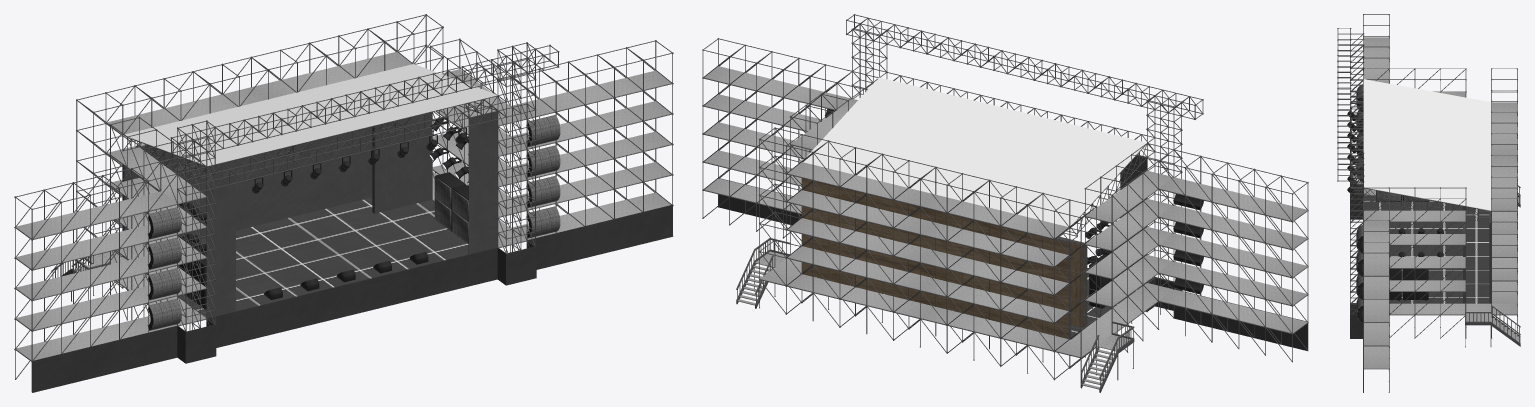
3 views of the same model, side by side, from view 1: azimuth 30°, elevation 25°; view 2: azimuth 150°, elevation 25°; view 3: azimuth 270°, elevation 25° (orthographic). The views are drawn at different scales.
Visible parts, largest first — view 1: LiveStageMain; view 2: LiveStageMain; view 3: LiveStageMain.
Part boxes in pixels (left/top/right/bottom): LiveStageMain: left=14, top=14, right=673, bottom=392; LiveStageMain: left=702, top=14, right=1308, bottom=392; LiveStageMain: left=1337, top=14, right=1520, bottom=392.
Size of what is drawn, in the model's own units: 44.1 by 15.06 by 14.3.
Materials: 2 (1 with a texture image).
